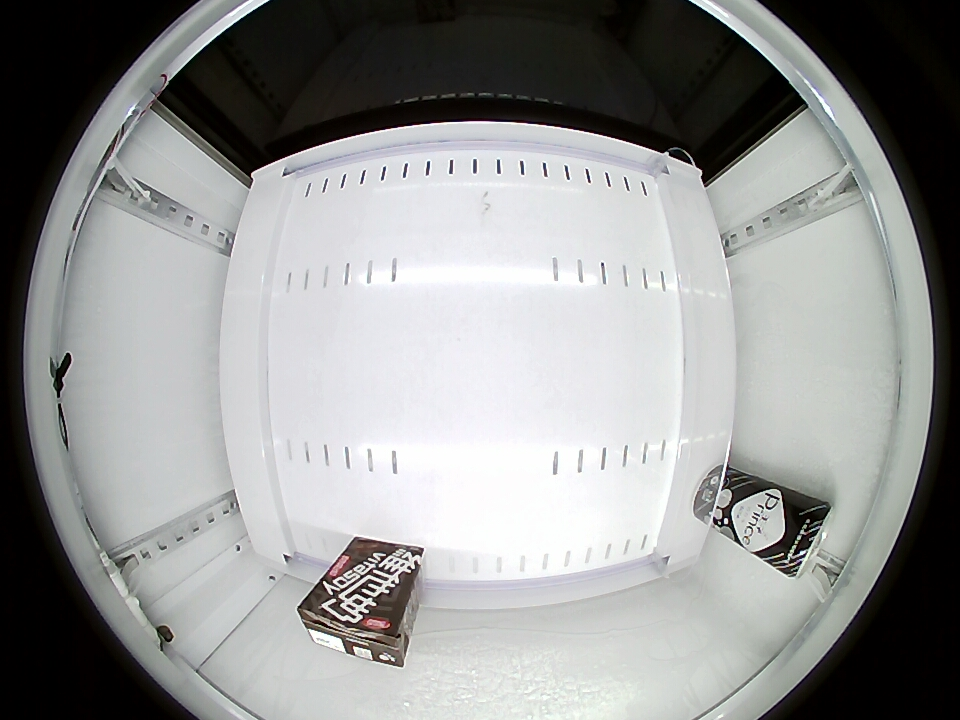qingdaowangzi-1: (774, 497, 833, 578)
weitanai2: (297, 587, 411, 667)
